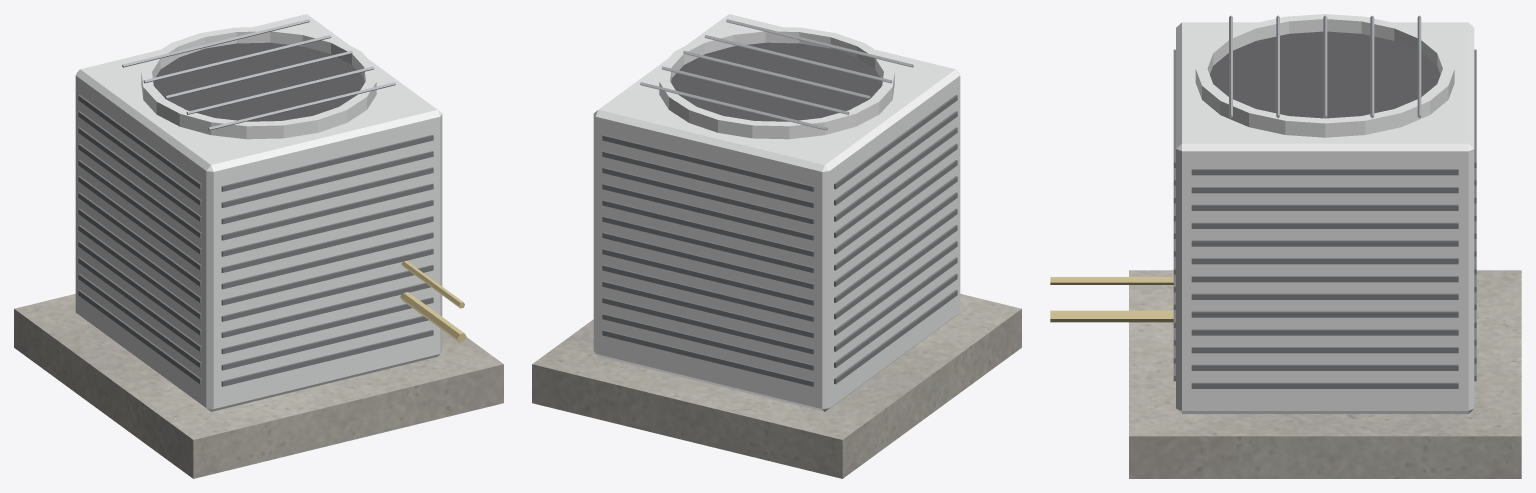
Rendered from ac_home.glb.
3 views of the same model, side by side, from view 1: azimuth 30°, elevation 25°; view 2: azimuth 150°, elevation 25°; view 3: azimuth 270°, elevation 25° (orthographic). The views are drawn at different scales.
Parts seen in each view (by area): view 1: ac_home_appl, ac_home_concrete, ac_home_grille, ac_home_dark, ac_home_steel, ac_home_brass; view 2: ac_home_appl, ac_home_concrete, ac_home_grille, ac_home_dark, ac_home_steel; view 3: ac_home_appl, ac_home_concrete, ac_home_grille, ac_home_dark, ac_home_brass, ac_home_steel.
Part boxes in pixels (x1,y1,x2,y2): ac_home_appl: (75,14,442,411); ac_home_concrete: (14,294,503,478); ac_home_grille: (78,95,433,386); ac_home_dark: (153,42,364,121); ac_home_steel: (122,19,395,130); ac_home_brass: (400,260,466,342); ac_home_appl: (593,14,960,411); ac_home_concrete: (532,294,1021,478); ac_home_grille: (602,95,957,386); ac_home_dark: (671,42,882,121); ac_home_steel: (640,19,913,130); ac_home_appl: (1176,14,1474,413); ac_home_concrete: (1129,270,1521,478); ac_home_grille: (1173,49,1476,388); ac_home_dark: (1210,31,1440,118); ac_home_brass: (1050,277,1173,322); ac_home_steel: (1229,15,1421,118).
Bounding box in the file's own units: 1 × 0.93 × 1.2.
6 materials, 1 textured.
